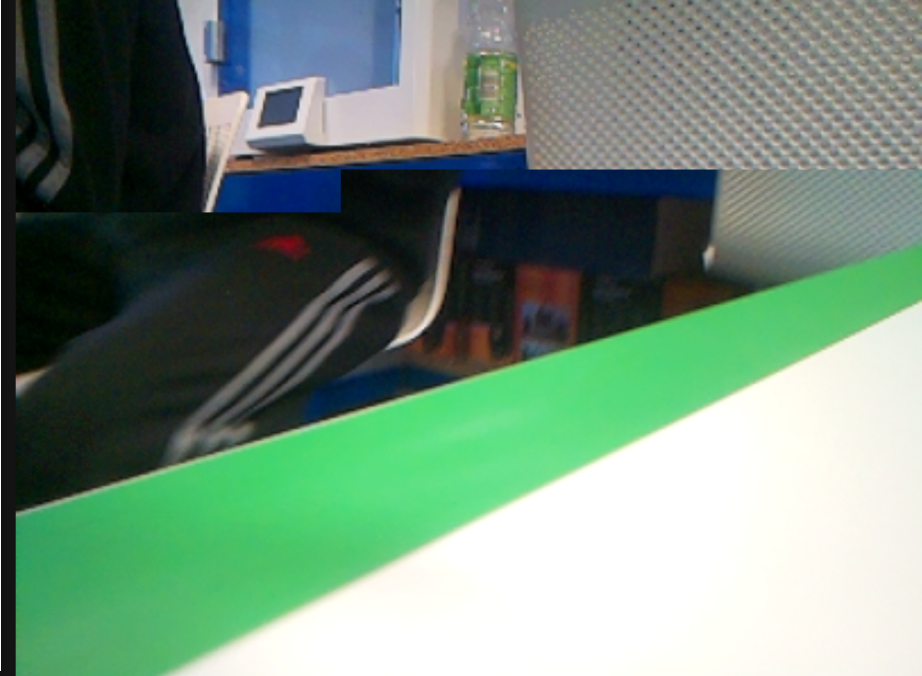linea_cerca: (15, 242, 922, 676)
